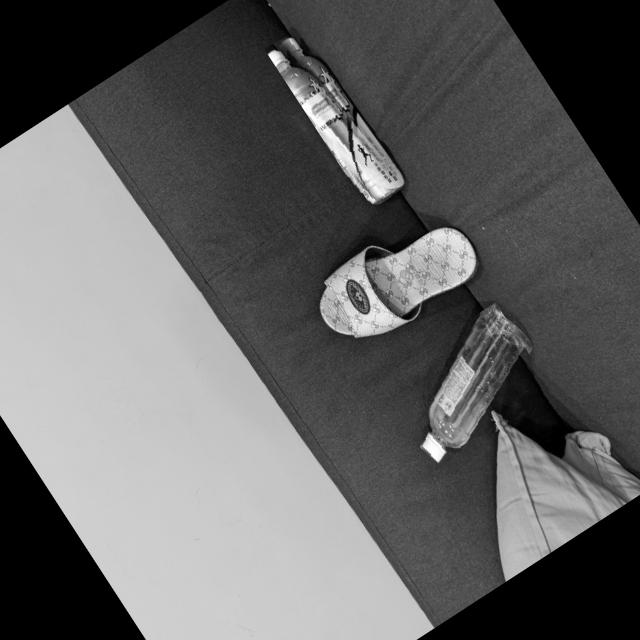plastic bottle: (375, 301, 557, 474), (262, 21, 403, 206)
